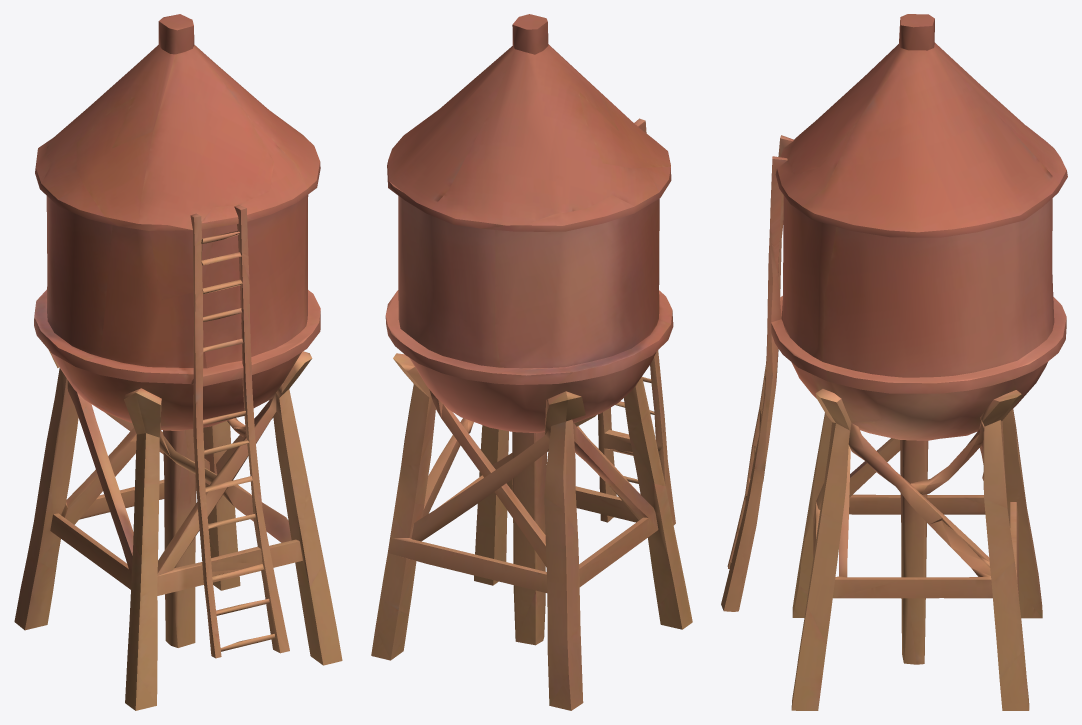
Rendered from watertower.glb.
3 views of the same model, side by side, from view 1: azimuth 30°, elevation 25°; view 2: azimuth 150°, elevation 25°; view 3: azimuth 270°, elevation 25° (orthographic). The views are drawn at different scales.
Visible parts, largest first — view 1: model; view 2: model; view 3: model.
Part boxes in pixels (left/top/right/bottom): model: left=14, top=14, right=342, bottom=710; model: left=371, top=14, right=692, bottom=710; model: left=721, top=14, right=1067, bottom=710.
Size of the model in its own units: 0.7999 by 1.89 by 0.9326.
Materials: 1 (1 with a texture image).
